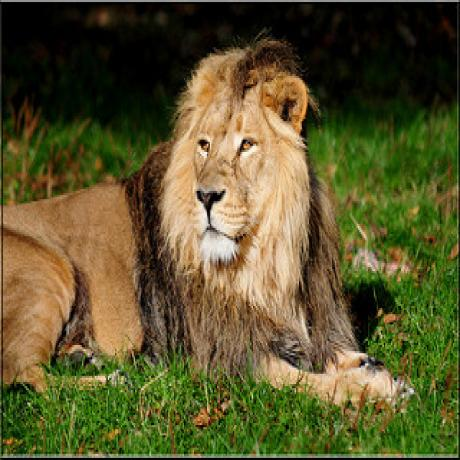Lion: (0, 41, 410, 413)
